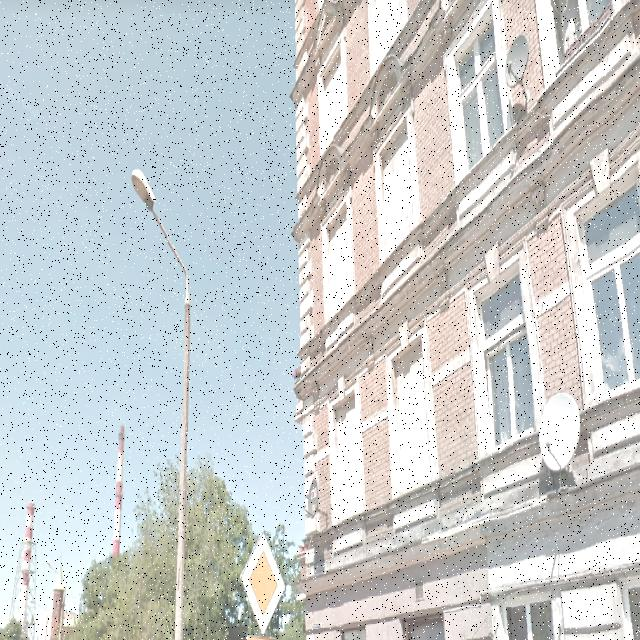Droga z pierwszenstwem: (240, 534, 284, 630)
